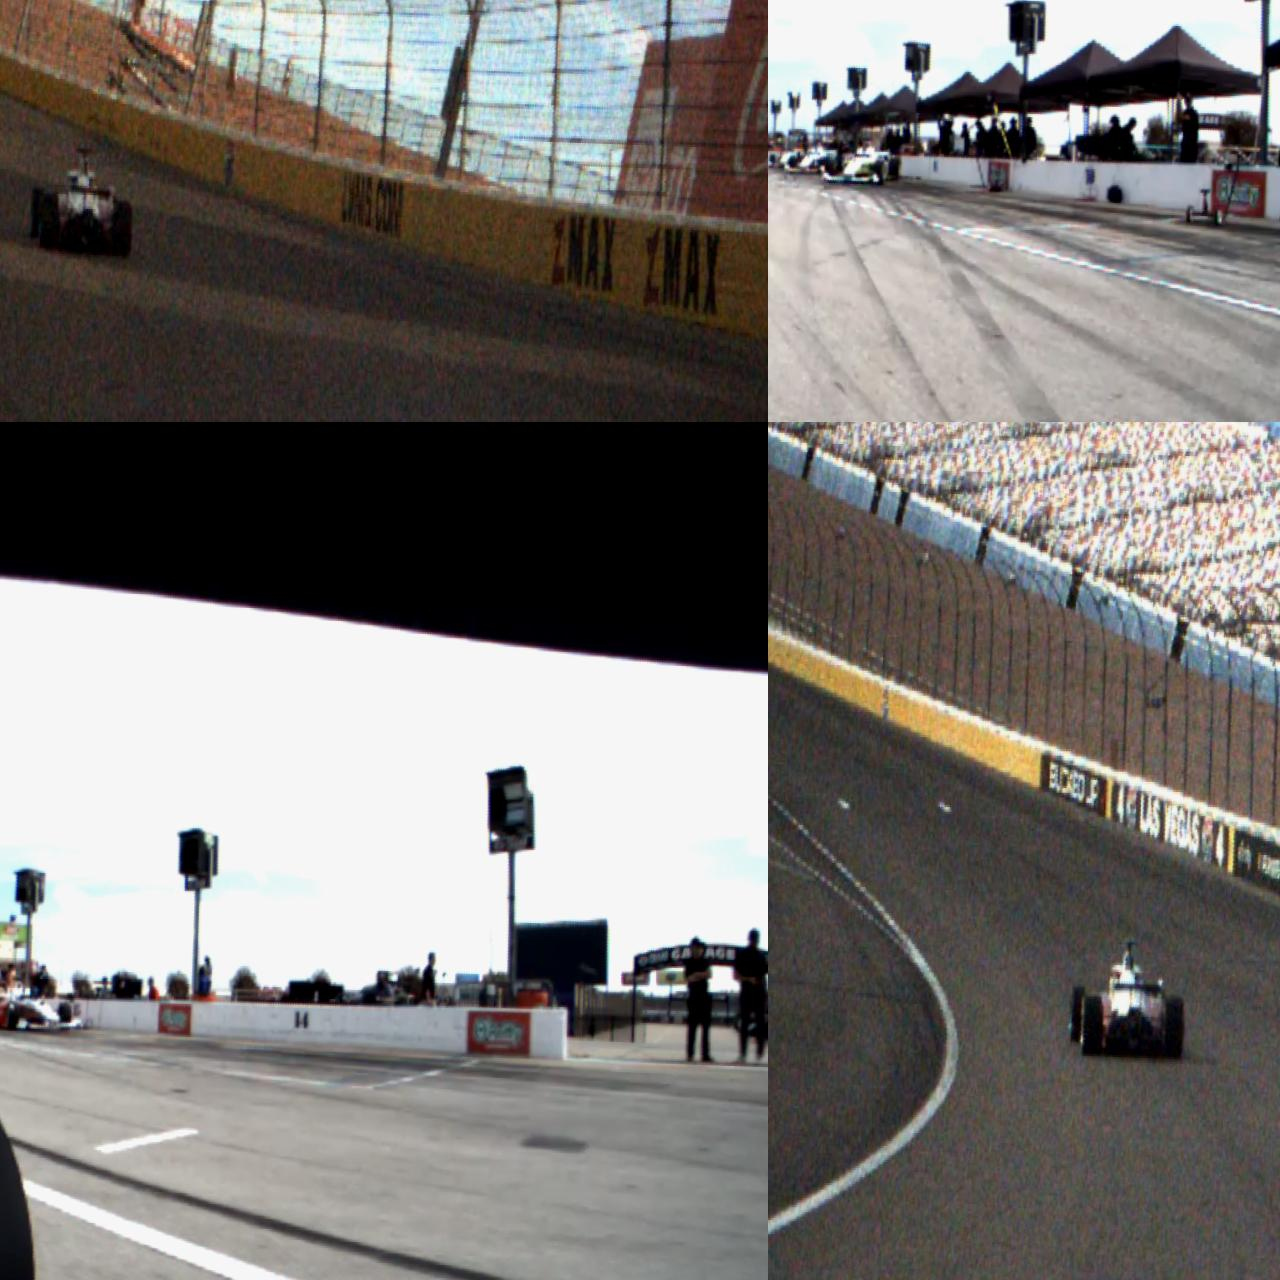AV: (1067, 937, 1189, 1062), (27, 141, 136, 259), (0, 974, 72, 1033), (819, 136, 903, 185), (783, 141, 844, 176)
Wheel: (1162, 996, 1185, 1061), (1080, 995, 1103, 1057), (38, 192, 60, 250), (113, 199, 132, 259), (1068, 985, 1085, 1044), (28, 185, 46, 241), (56, 1001, 72, 1029), (6, 1001, 19, 1030), (873, 159, 885, 184), (890, 157, 900, 179)
